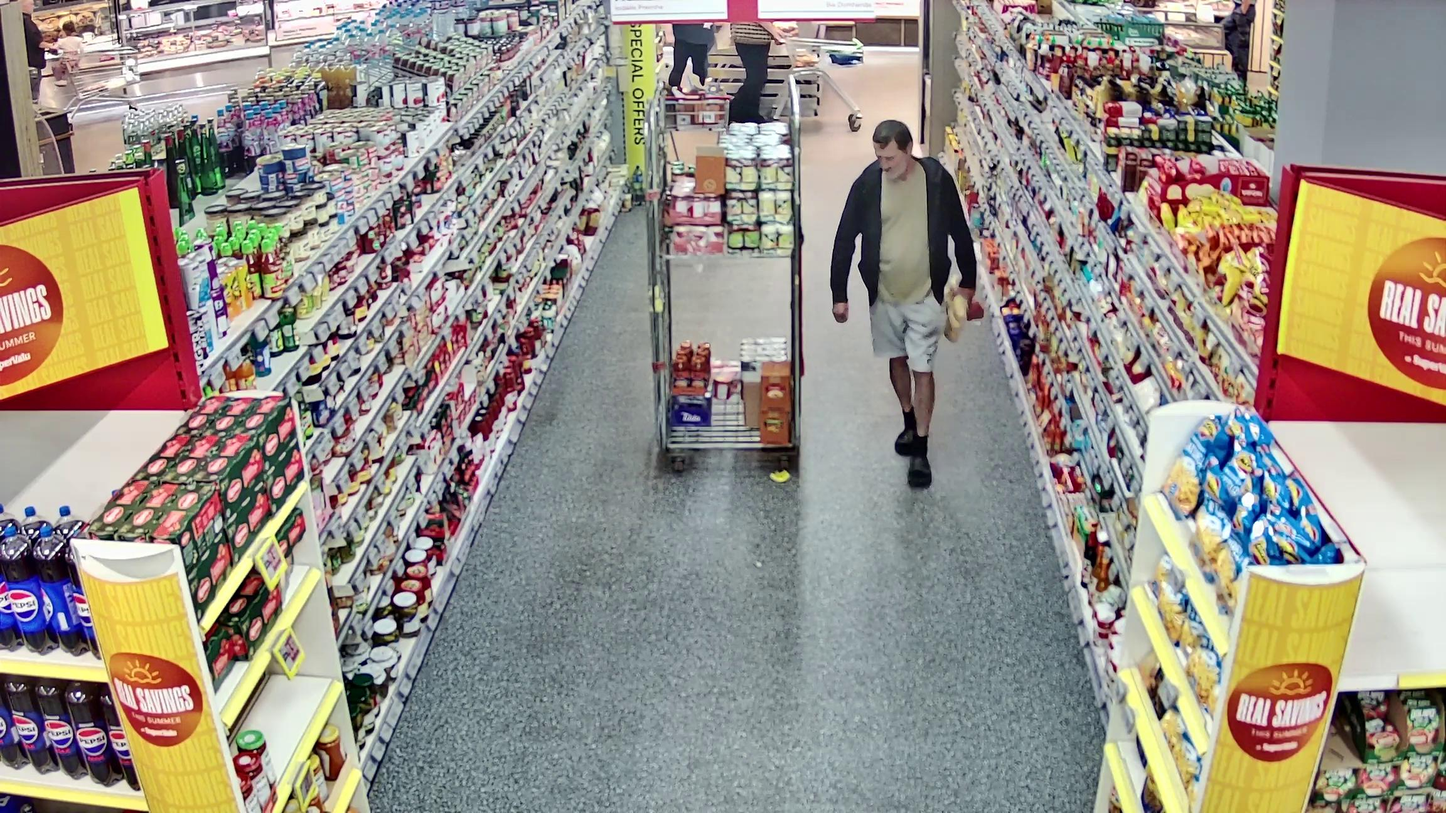carrying-item: (943, 278, 984, 341)
person: (829, 119, 978, 487)
person-with-carrying-item: (829, 118, 987, 489)
